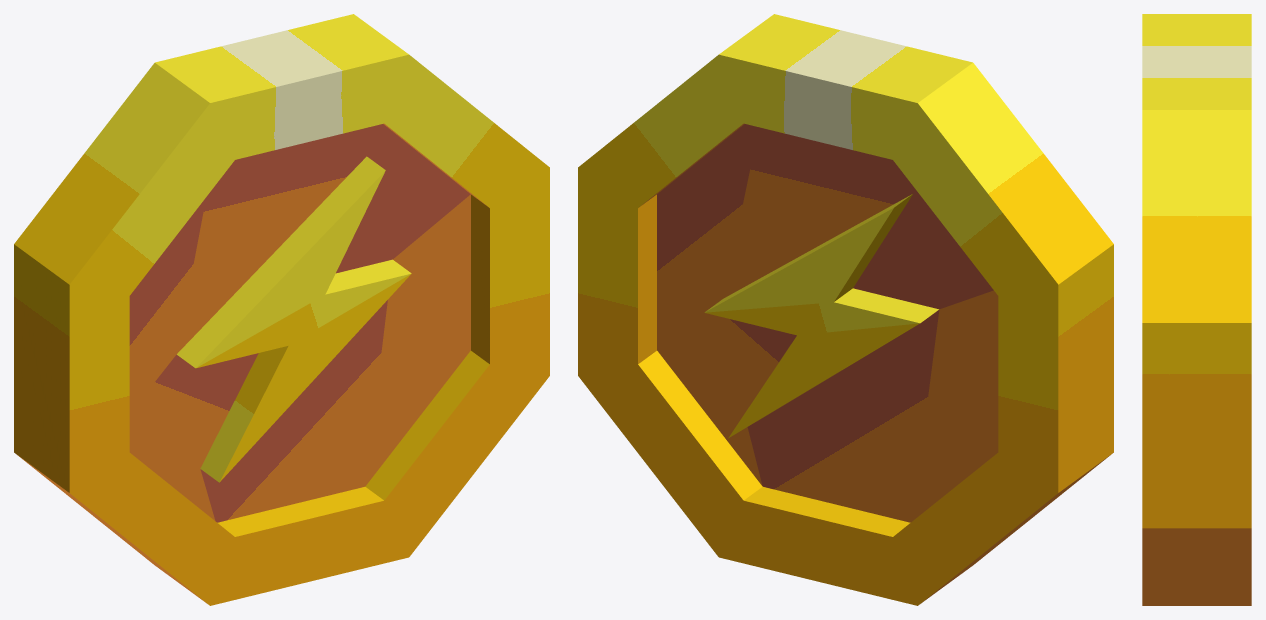
File: smol_coin.gltf
3 views of the same model, side by side, from view 1: azimuth 30°, elevation 25°; view 2: azimuth 150°, elevation 25°; view 3: azimuth 270°, elevation 25° (orthographic).
Visible parts, largest first — view 1: plane; view 2: plane; view 3: plane.
Part boxes in pixels (x1,y1,x2,y2): plane: [14, 14, 549, 605]; plane: [578, 14, 1113, 605]; plane: [1142, 14, 1251, 605].
Size of the model in its own units: 0.5 by 0.5 by 0.1.
1 material, 1 textured.
